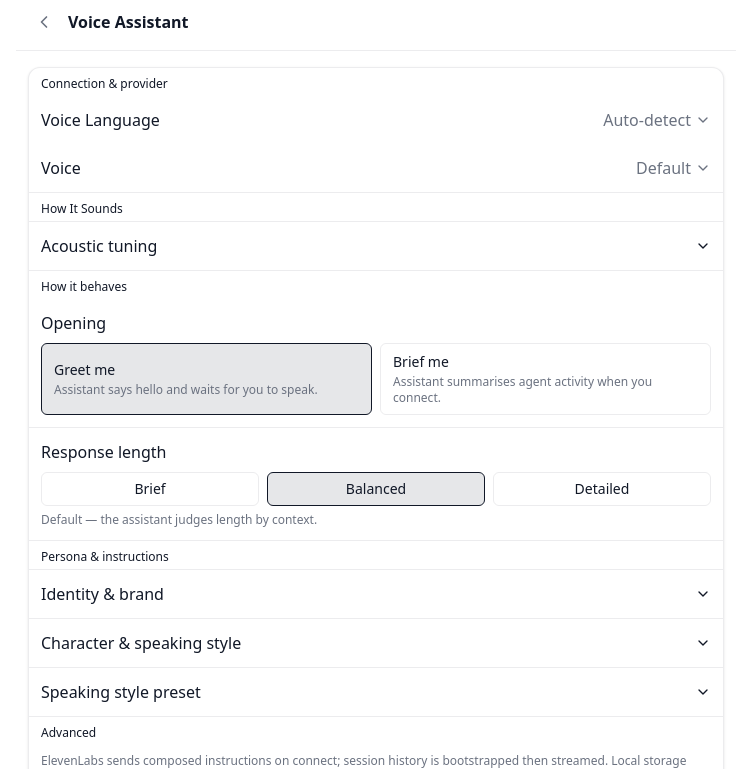
Scenario: SettingsPage › shows Gemini static voices when hub backend is gemini-live
The image size is (753, 769).
Click the button "Voice Default". click: (61, 168)
box: [29, 144, 723, 192]
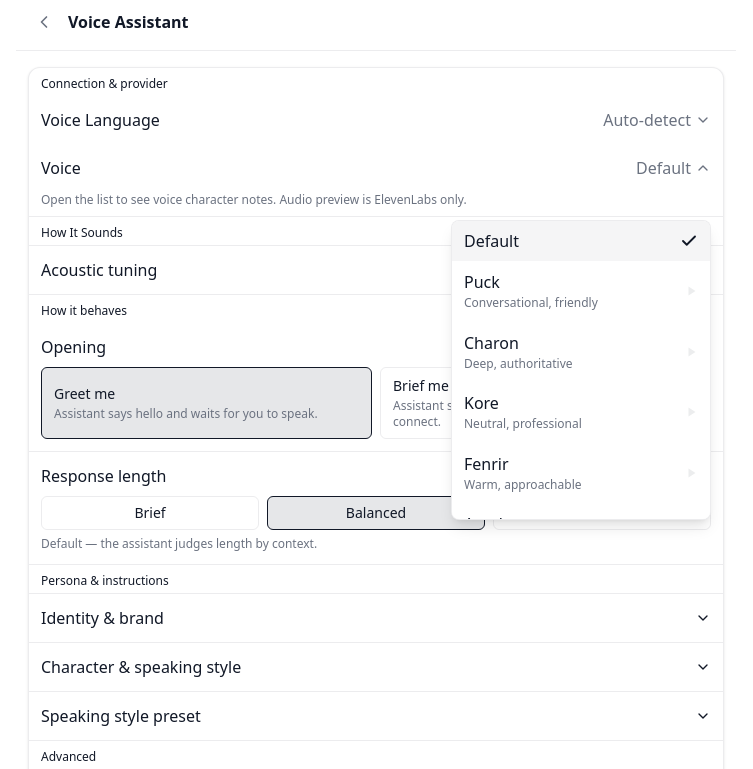
Expected: the text "Puck" is shown, [464, 271, 500, 293]
Expected: the text "Conversational, friendly" is shown, [464, 295, 598, 312]
